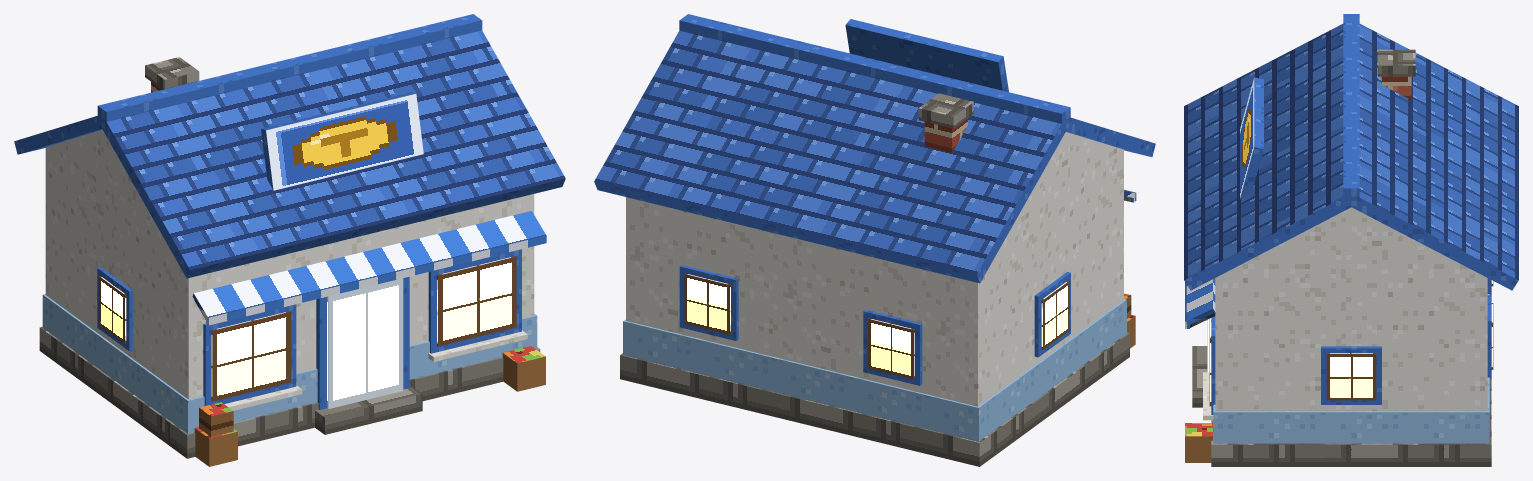
The model's file is shop.glb.
3 renders of one model, left to right at view 1: azimuth 30°, elevation 25°; view 2: azimuth 150°, elevation 25°; view 3: azimuth 270°, elevation 25°, orthographic. The views are drawn at different scales.
Parts seen in each view (by area): view 1: shop; view 2: shop; view 3: shop.
Boxes of the visible parts, box(x1,y1,x2,y2) form: shop: box(14, 14, 565, 466); shop: box(594, 14, 1155, 466); shop: box(1184, 14, 1518, 466).
Size of the model in its own units: 5 by 3.8 by 4.06.
Materials: 13 (13 with a texture image).
